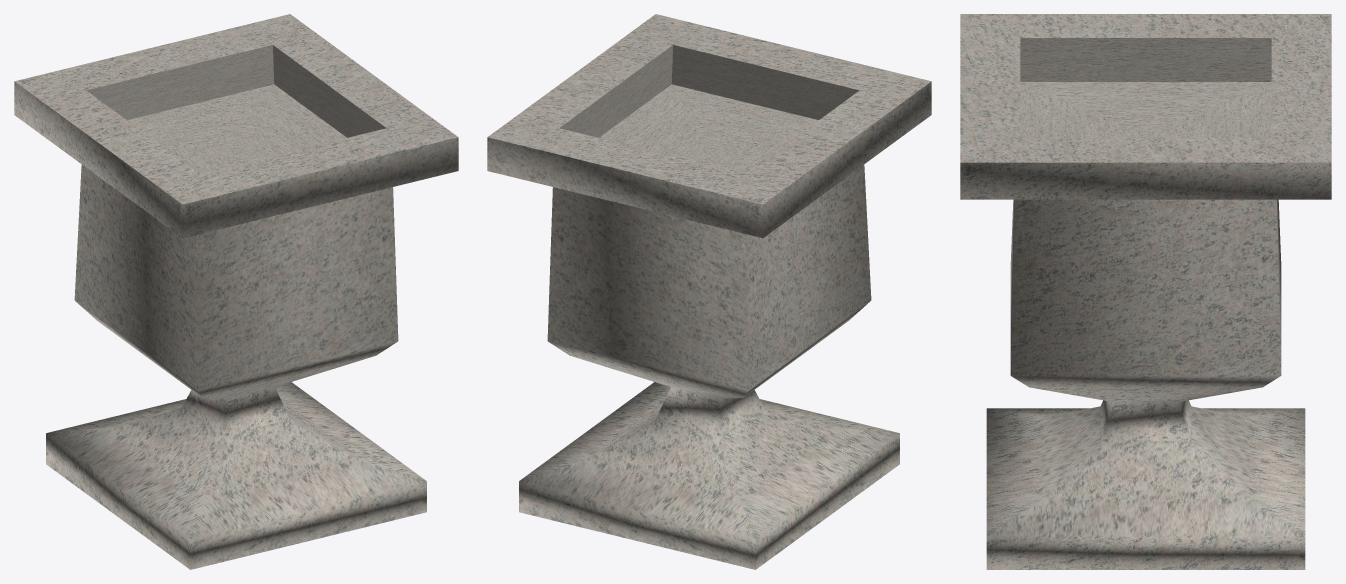
Rendered from vase.fbx.
3 renders of one model, left to right at view 1: azimuth 30°, elevation 25°; view 2: azimuth 150°, elevation 25°; view 3: azimuth 270°, elevation 25°, orthographic. The views are drawn at different scales.
Visible parts, largest first — view 1: pCube334; view 2: pCube334; view 3: pCube334.
Part boxes in pixels (bbox=[...]): pCube334: bbox=[14, 14, 458, 569]; pCube334: bbox=[487, 14, 931, 569]; pCube334: bbox=[960, 14, 1331, 569].
Size of the model in its own units: 1.57 by 2.06 by 1.66.
1 material, 1 textured.
